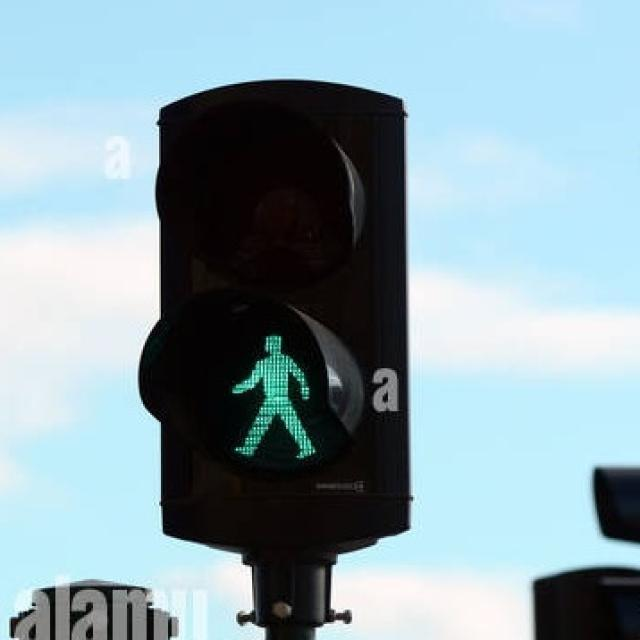geen-crossing: (211, 316, 329, 471)
